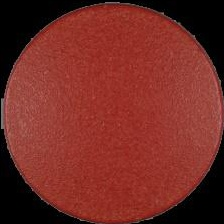53489-400: (0, 0, 224, 224)
